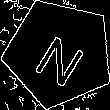N_NE: (28, 22, 90, 85)
